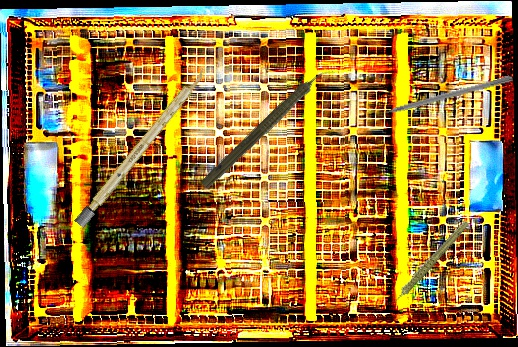Handpiece: (198, 59, 337, 195), (373, 219, 483, 307)
Pusher: (365, 73, 514, 121)
Scalpel Handle: (74, 65, 209, 229)
